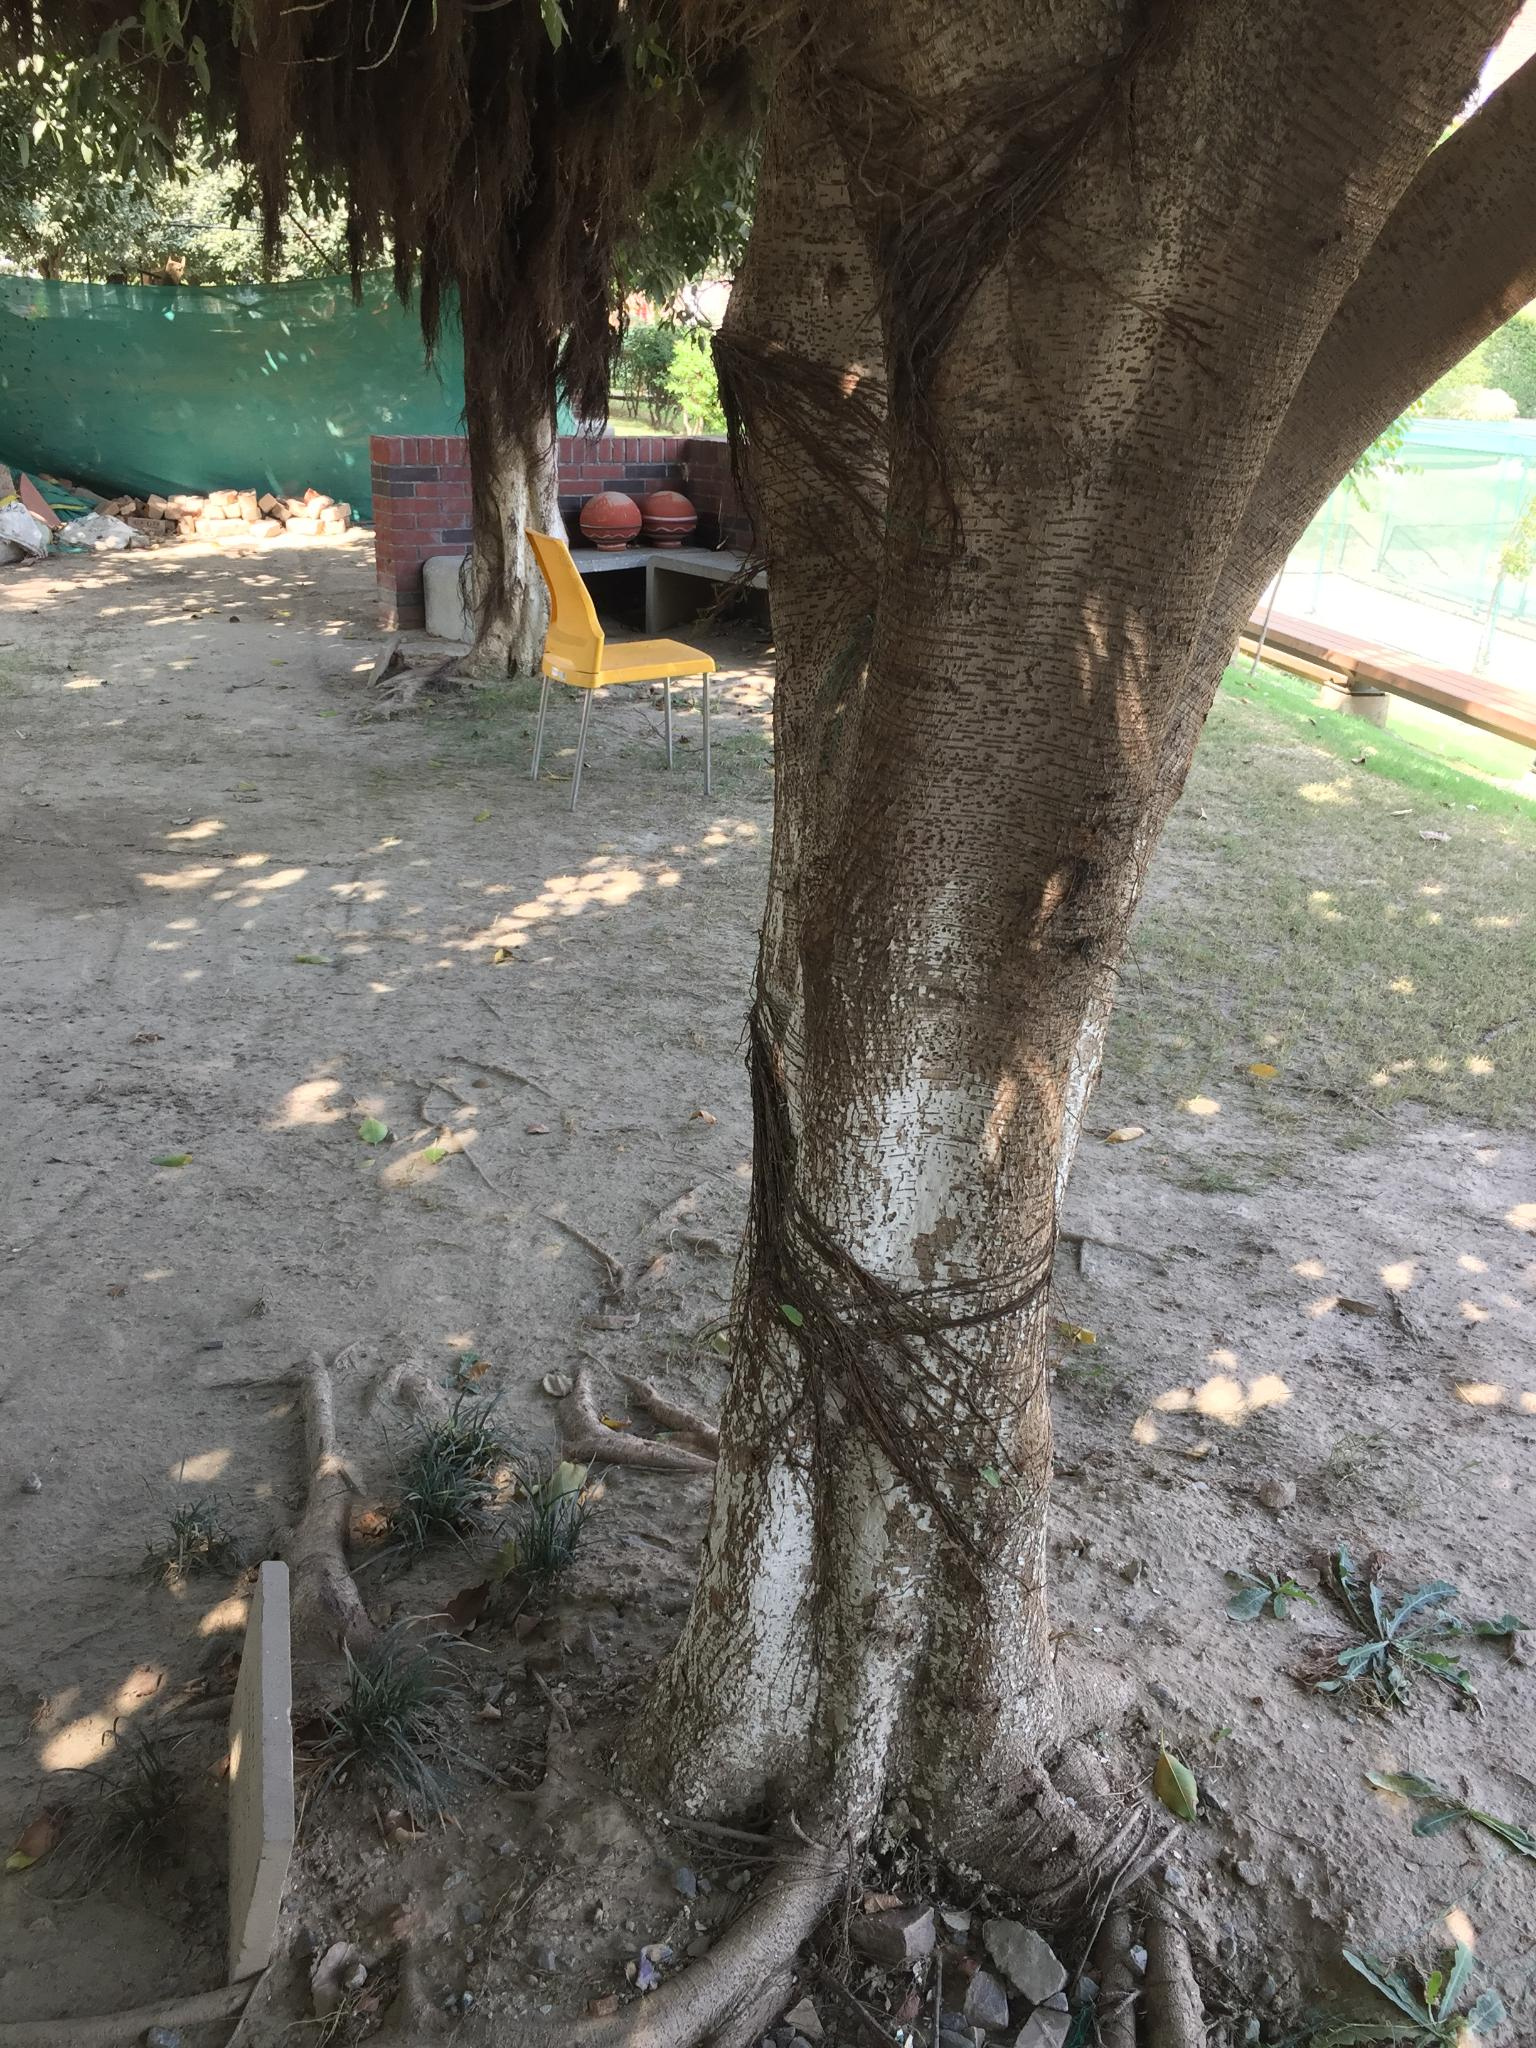chair: (523, 527, 715, 813)
